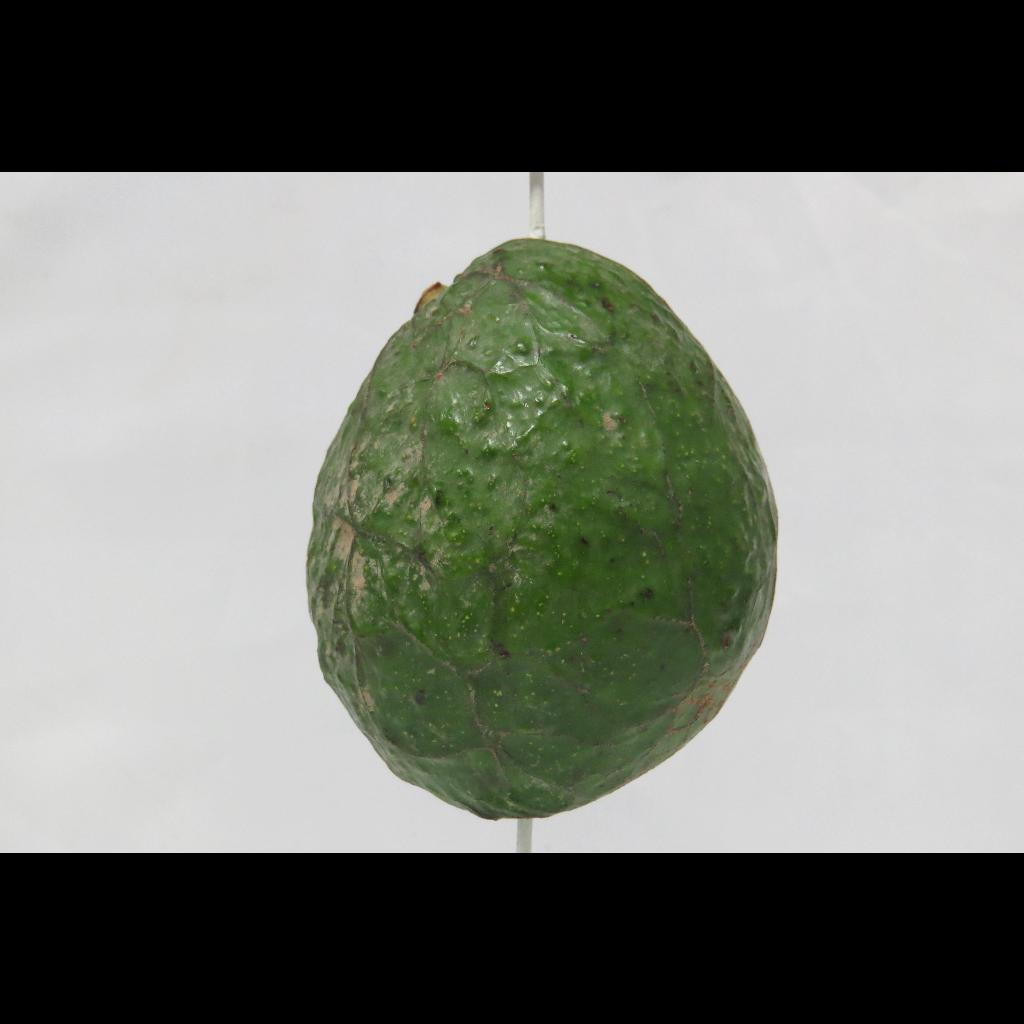fruto_sano: (245, 204, 811, 834)
